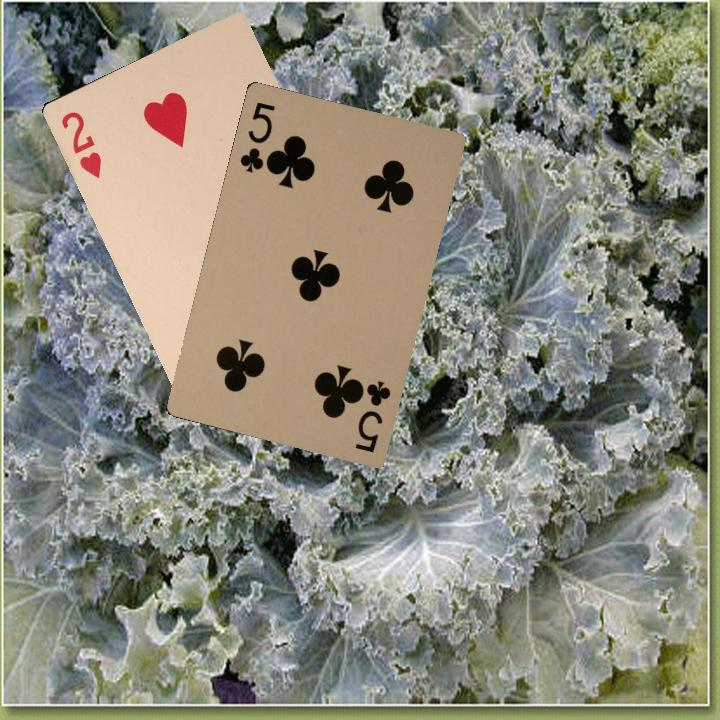2h: (57, 107, 104, 181)
5c: (351, 376, 394, 455), (235, 98, 278, 176)
